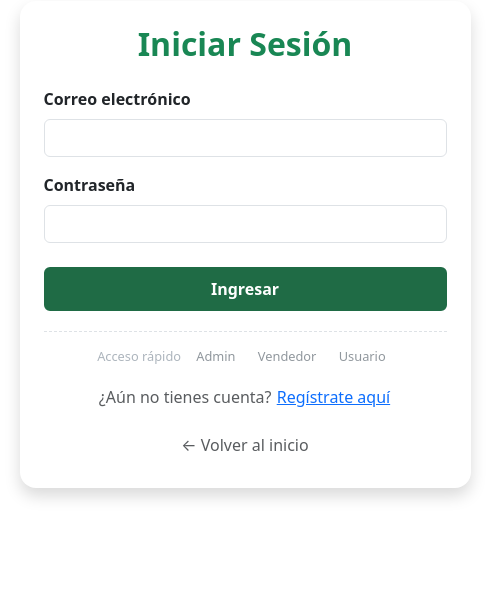
Login sin conexión › informa que no hay conexión en vez de culpar a las credenciales
Click the button "Admin".
click(216, 356)  # box [189,344,243,368]
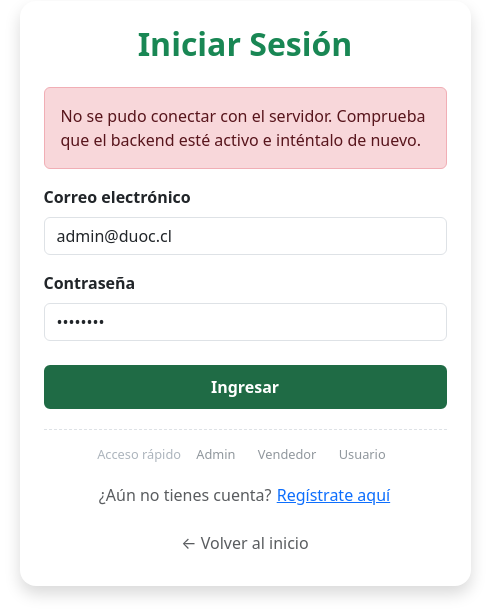
Check: the text "No se pudo conectar con el servidor. Comprueba que el backend esté activo e inténtalo de nuevo." is shown, box [60,105,426,151]
